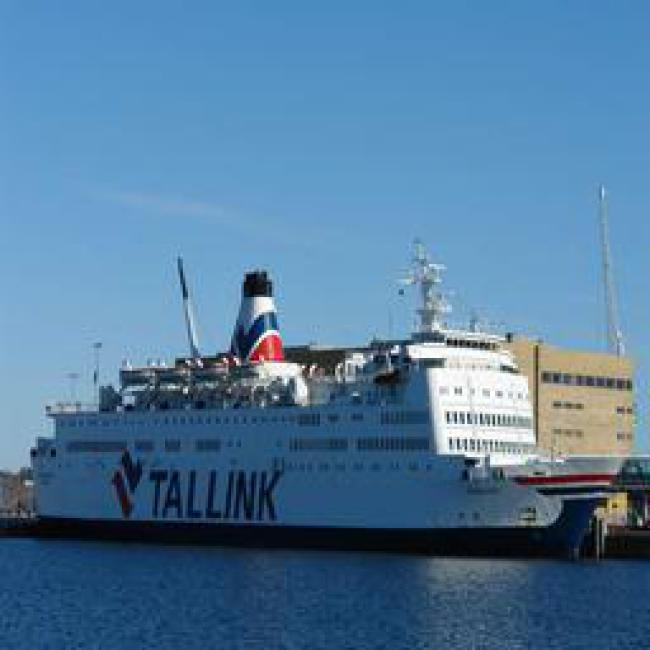Ship: (21, 347, 605, 564)
